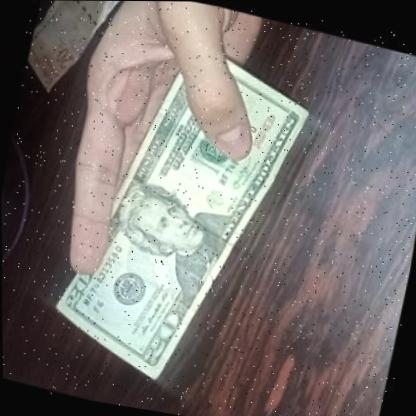twenty-front: (42, 16, 326, 414)
